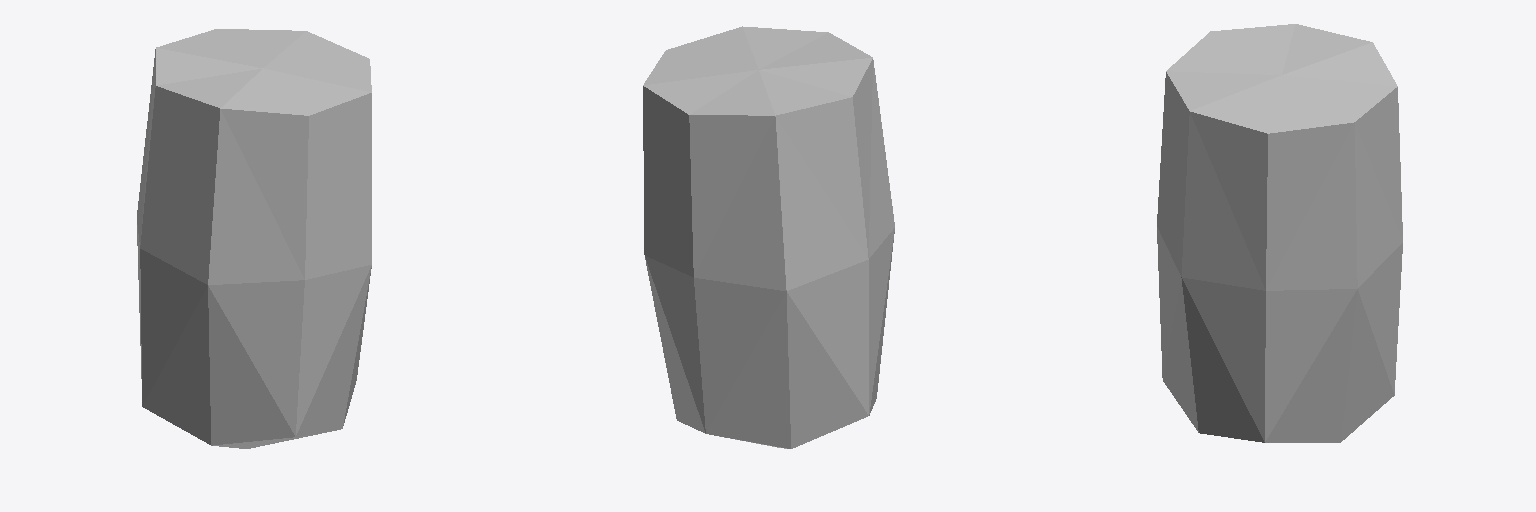
The model's file is rightForearm.obj.
3 views of the same model, side by side, from view 1: azimuth 30°, elevation 25°; view 2: azimuth 150°, elevation 25°; view 3: azimuth 270°, elevation 25° (orthographic).
Visible parts, largest first — view 1: Cube.001_Cube.000; view 2: Cube.001_Cube.000; view 3: Cube.001_Cube.000.
Part boxes in pixels (x1,y1,x2,y2): Cube.001_Cube.000: (137, 29, 371, 448); Cube.001_Cube.000: (643, 26, 894, 448); Cube.001_Cube.000: (1157, 24, 1402, 442).
Size of the model in its own units: 0.5973 by 1 by 0.5888.